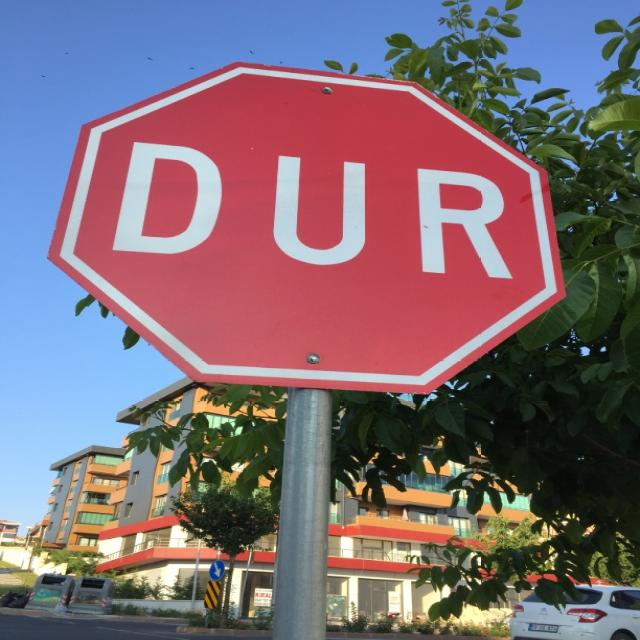dur: (47, 62, 569, 396)
